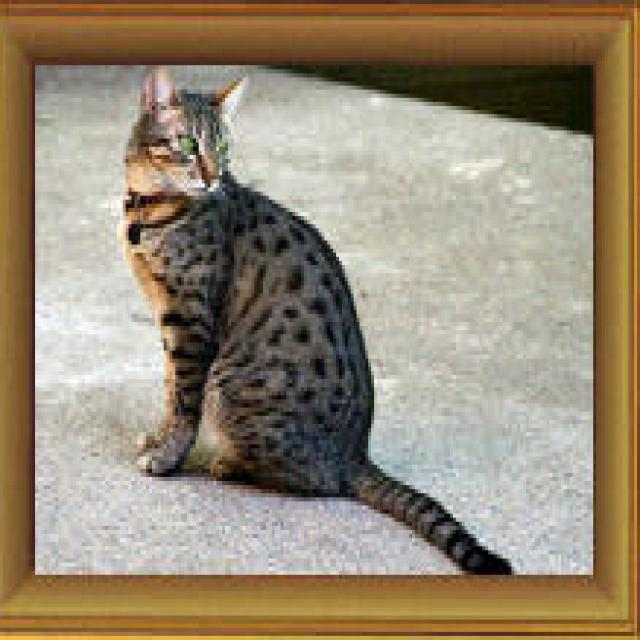Egyptian Mau: (118, 64, 516, 576)
